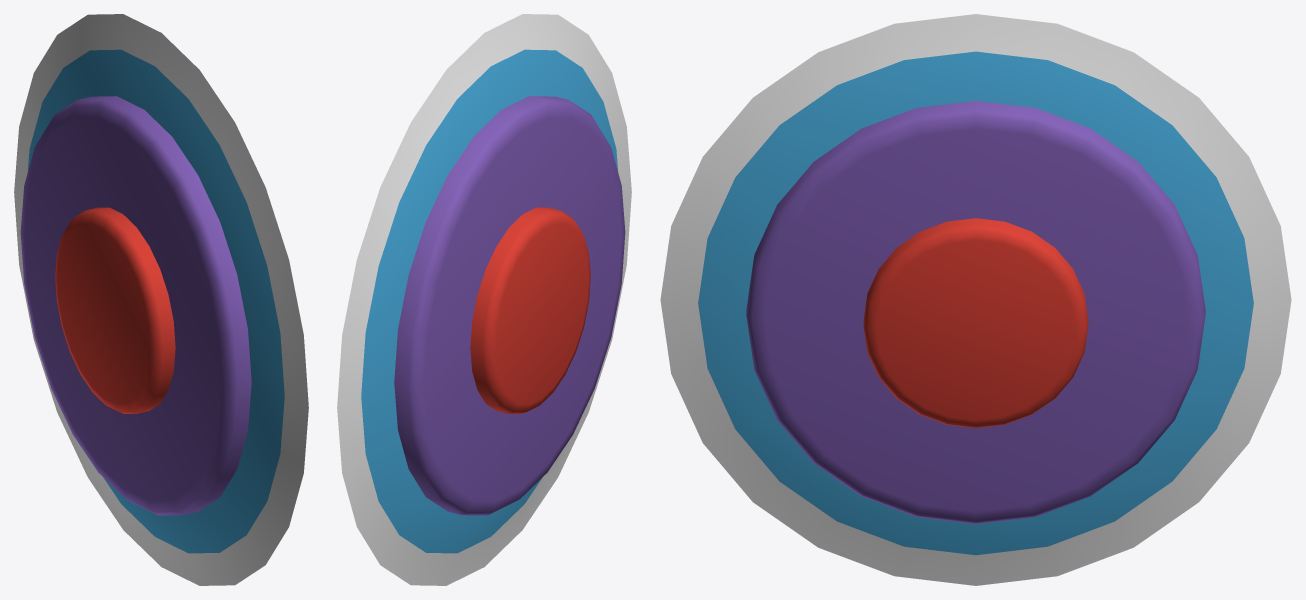
File: Obstacle_Round_Blade_01.fbx
3 renders of one model, left to right at view 1: azimuth 30°, elevation 25°; view 2: azimuth 150°, elevation 25°; view 3: azimuth 270°, elevation 25°, orthographic. The views are drawn at different scales.
Visible parts, largest first — view 1: Obstacle_Round_Blade_01; view 2: Obstacle_Round_Blade_01; view 3: Obstacle_Round_Blade_01.
Part boxes in pixels (x1,y1,x2,y2): Obstacle_Round_Blade_01: [14, 14, 308, 585]; Obstacle_Round_Blade_01: [337, 14, 631, 585]; Obstacle_Round_Blade_01: [660, 14, 1291, 585].
Size of the model in its own units: 13.03 by 57.6 by 57.6.
